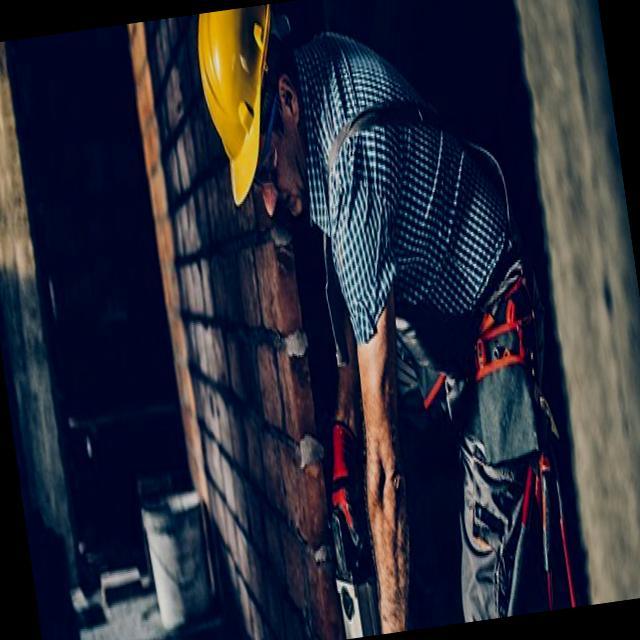goggles: (246, 140, 295, 198)
helmet: (191, 1, 316, 219)
no-vest: (304, 5, 500, 392)
